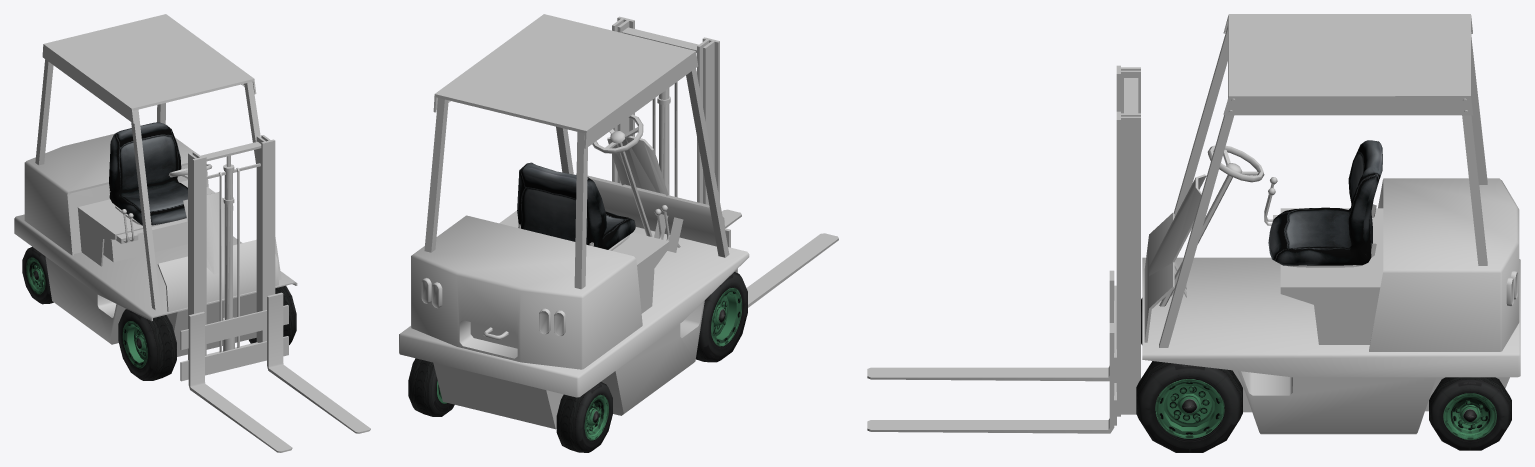
File: Forklift02.FBX
The picture shows the model from 3 angles, left to right: view 1: azimuth 30°, elevation 25°; view 2: azimuth 150°, elevation 25°; view 3: azimuth 270°, elevation 25°; orthographic projection. The views are drawn at different scales.
Visible parts, largest first — view 1: Forklift02, Forklift_wheel1, Forklift_wheels, Forklift_wheel2; view 2: Forklift02, Forklift_wheels, Forklift_wheel1; view 3: Forklift02, Forklift_wheel2, Forklift_wheels.
Boxes of the visible parts, x1,y1,x2,y2 form: Forklift02: [14, 14, 370, 452]; Forklift_wheel1: [118, 309, 176, 380]; Forklift_wheels: [22, 247, 53, 304]; Forklift_wheel2: [249, 285, 296, 344]; Forklift02: [399, 14, 838, 429]; Forklift_wheels: [408, 358, 612, 452]; Forklift_wheel1: [696, 272, 747, 362]; Forklift02: [867, 14, 1520, 434]; Forklift_wheel2: [1136, 361, 1242, 452]; Forklift_wheels: [1429, 377, 1511, 450].
Size of the model in its own units: 1.19 by 2.02 by 3.37.
